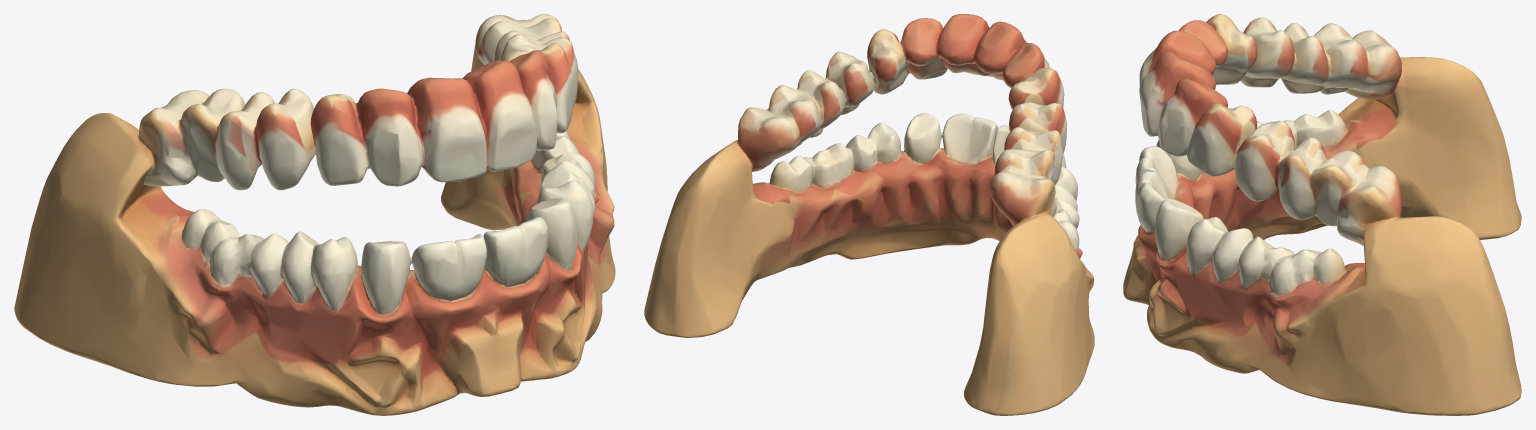
Rendered from Part_UpperTeethArch.glb.
The picture shows the model from 3 angles, left to right: view 1: azimuth 30°, elevation 25°; view 2: azimuth 150°, elevation 25°; view 3: azimuth 270°, elevation 25°; orthographic projection. The views are drawn at different scales.
Bounding box in the file's own units: 1.9 × 1.06 × 1.45.
1 material, 1 textured.
